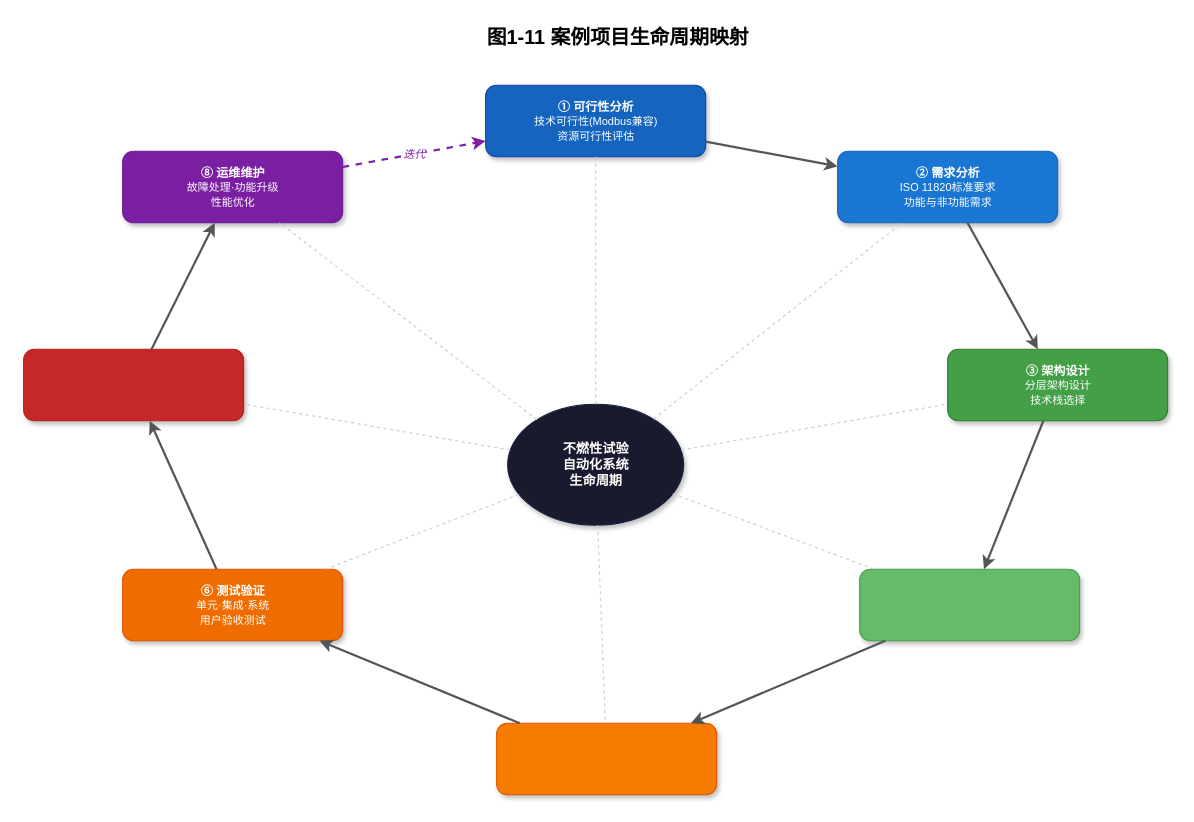
This 1194x822 diagram has some shape labels left out. The shapes that lost their labels are listed below. From the top down, each one's centre as x and y in pixels, then its label:
(x=134, y=386): ⑦ 部署上线 系统安装·数据库部署 用户培训
(x=970, y=606): ④ 详细设计 类图·数据库模型 接口规范
(x=607, y=760): ⑤ 编码实现 硬件通信·业务逻辑 用户界面
